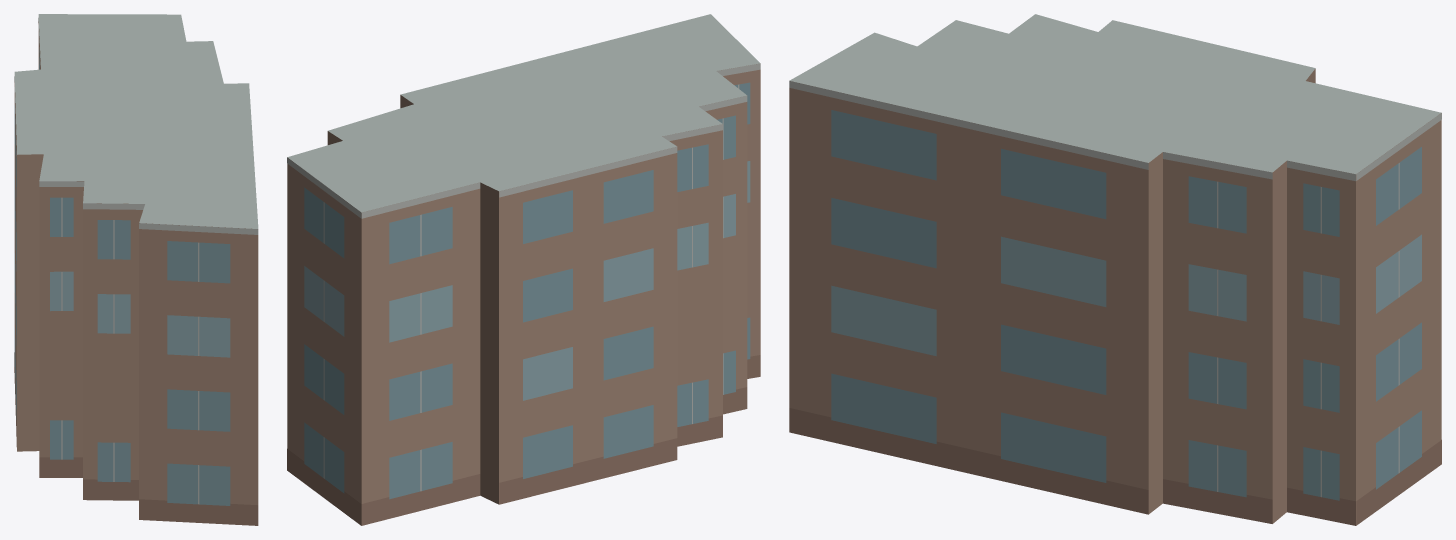
File: survey-upis-32882832.glb
3 renders of one model, left to right at view 1: azimuth 30°, elevation 25°; view 2: azimuth 150°, elevation 25°; view 3: azimuth 270°, elevation 25°, orthographic. The views are drawn at different scales.
Parts seen in each view (by area): view 1: survey-upis-32882832.tmp; view 2: survey-upis-32882832.tmp; view 3: survey-upis-32882832.tmp.
Part boxes in pixels (<box>): survey-upis-32882832.tmp: <box>14,14,258,525</box>; survey-upis-32882832.tmp: <box>287,14,760,525</box>; survey-upis-32882832.tmp: <box>789,14,1441,525</box>.
Bounding box in the file's own units: 11.93 × 12.2 × 20.53.
